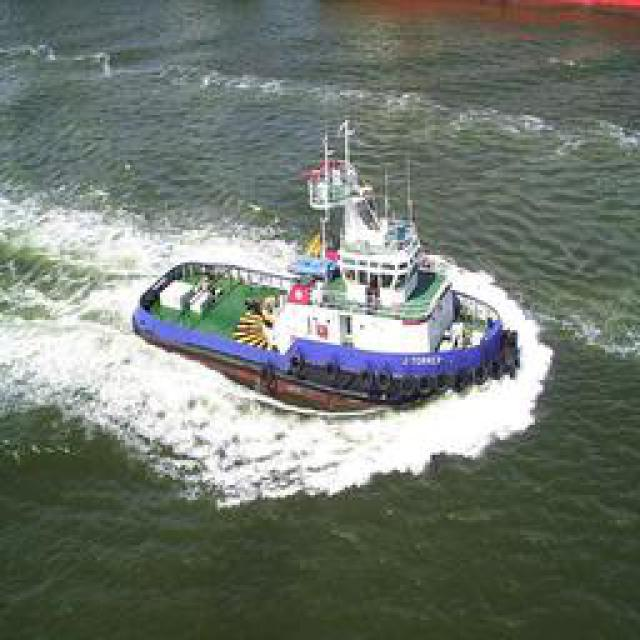Ship: (142, 101, 515, 421)
